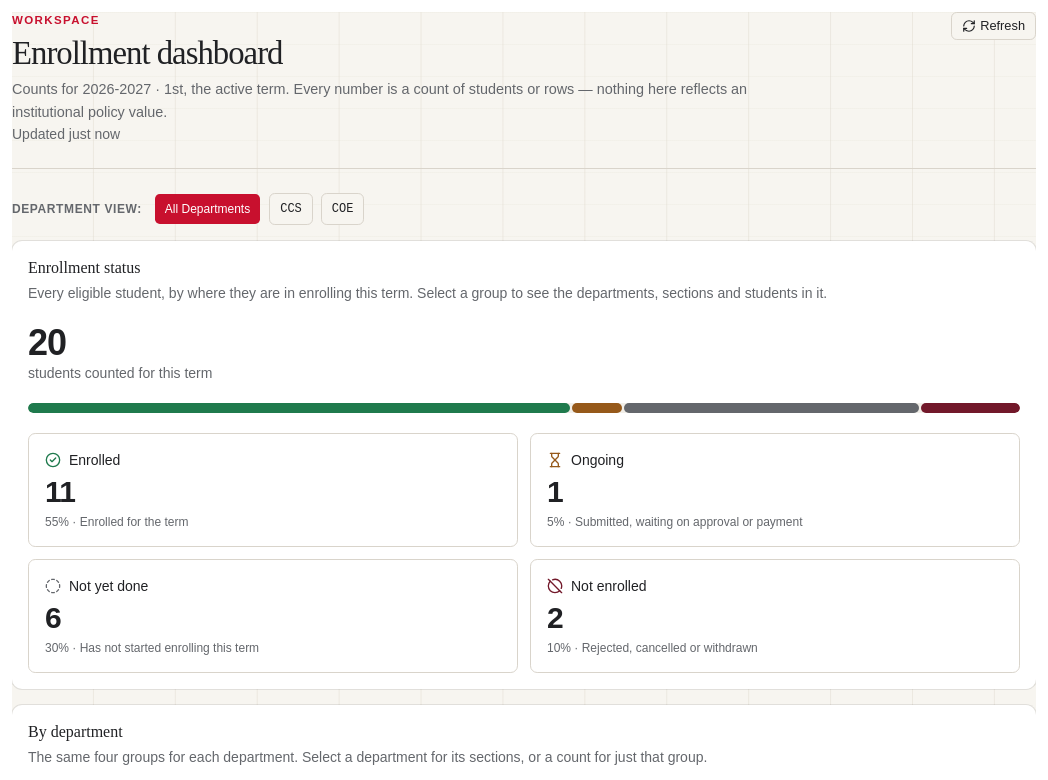
EnrollmentDashboardWorkspace › lets staff force an immediate refresh instead of waiting for the next poll
Expected: the button with aria-label "Enrolled: 11 students" is shown, top-left (28, 433), bottom-right (518, 547)
Click the button "Refresh": (994, 26) top-left (951, 12), bottom-right (1036, 40)
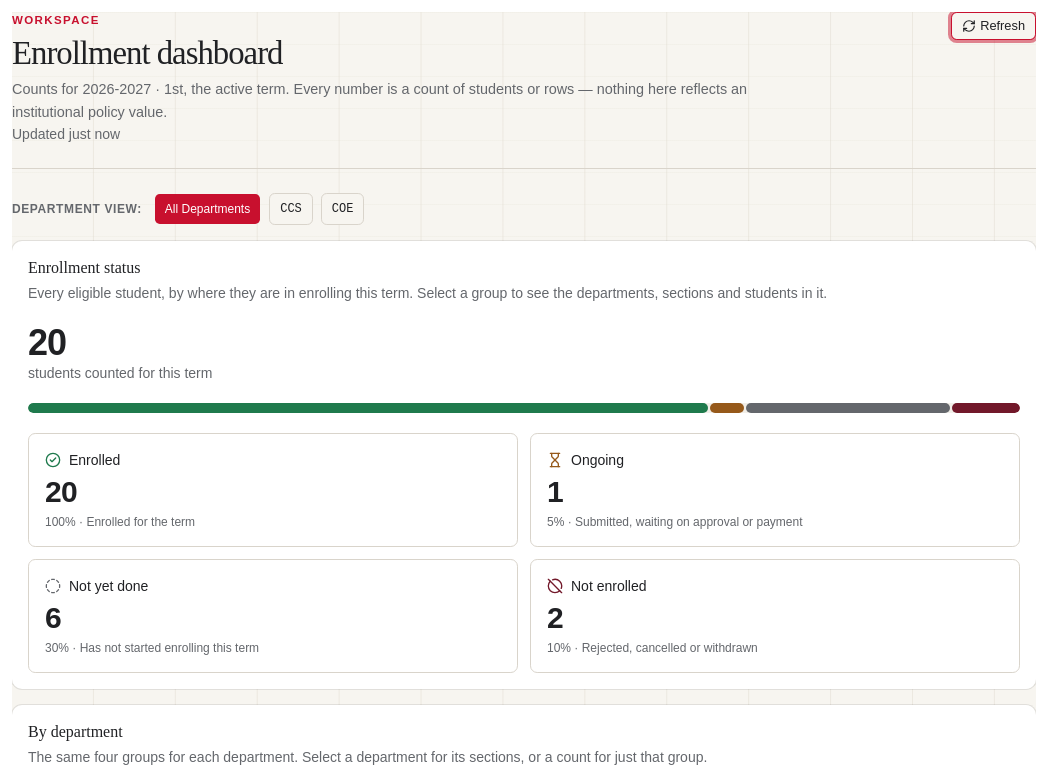
Result: the button with aria-label "Enrolled: 20 students" is shown at top-left (28, 433), bottom-right (518, 547)
